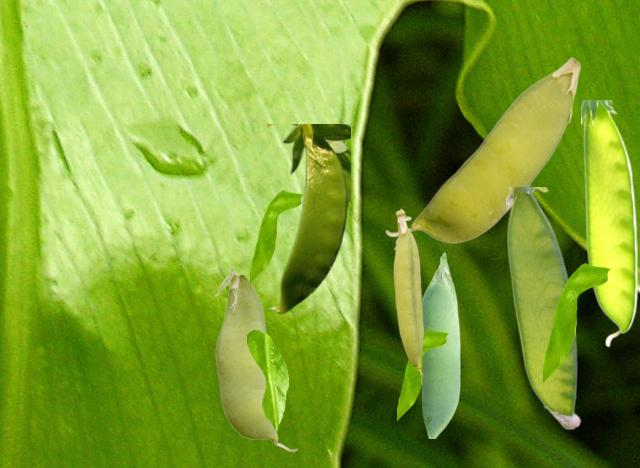pea: (385, 57, 580, 242), (506, 187, 580, 428), (267, 124, 349, 313), (214, 266, 297, 451), (581, 100, 636, 346), (421, 252, 459, 437), (393, 208, 423, 374)
